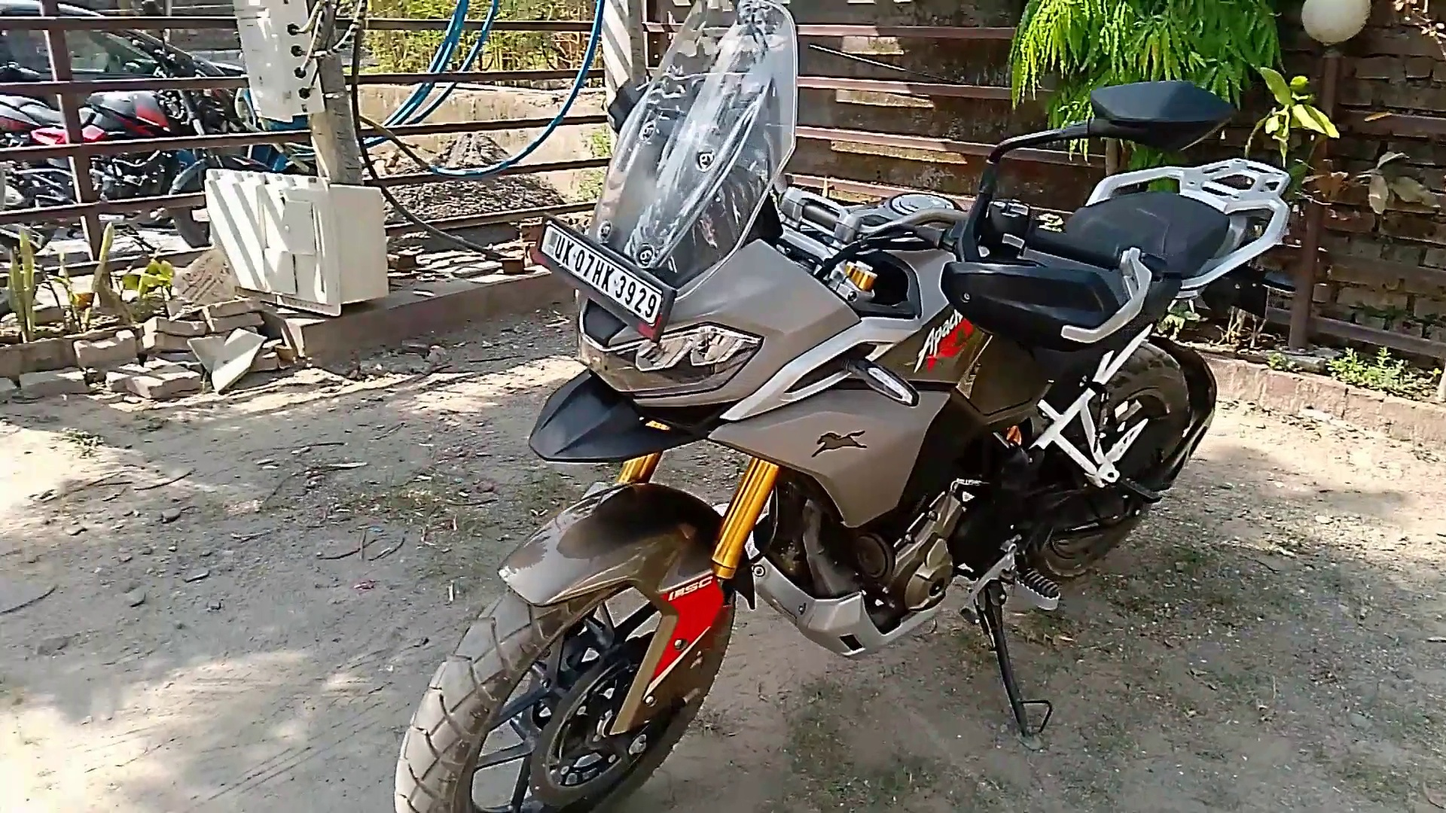engine: (877, 461, 981, 636)
